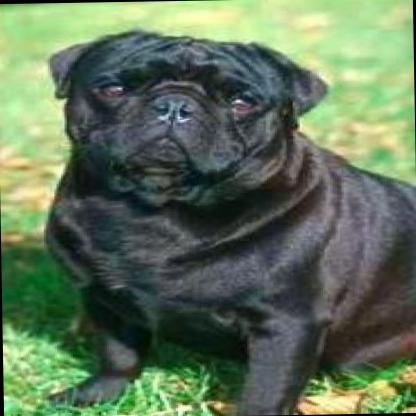pug: (37, 21, 410, 412)
